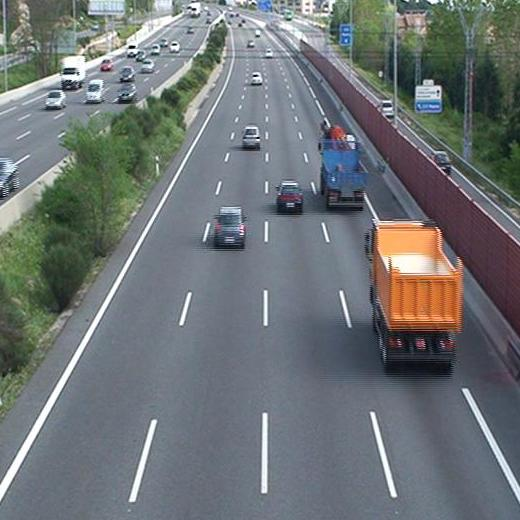car: (215, 207, 247, 248), (273, 182, 305, 212), (241, 125, 261, 149), (250, 73, 263, 85)
small-truck: (365, 219, 463, 376), (318, 121, 368, 211)
